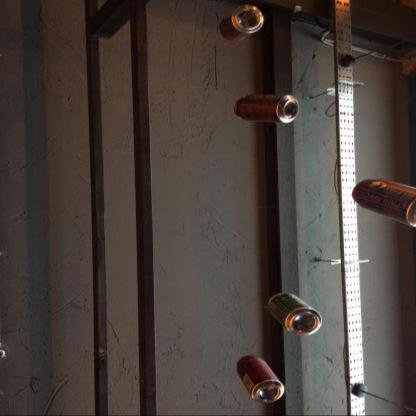Can: (352, 179, 415, 228), (268, 293, 322, 336), (236, 356, 284, 404), (235, 95, 300, 123), (219, 5, 263, 41)
